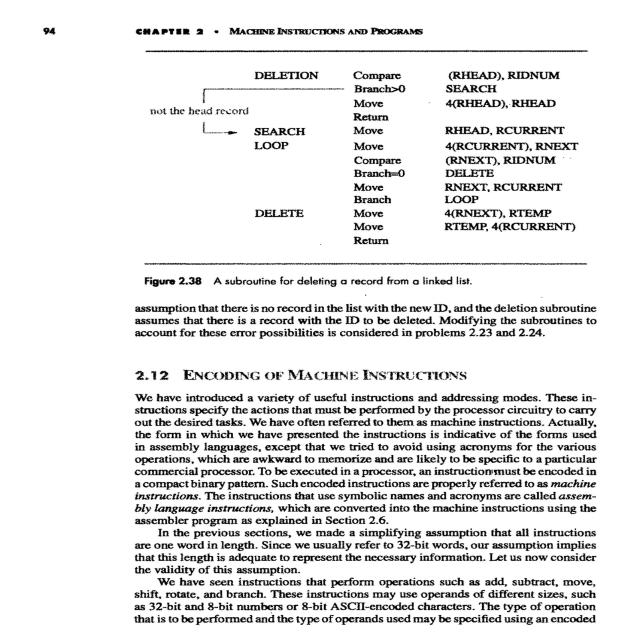diagram: (140, 45, 612, 292)
